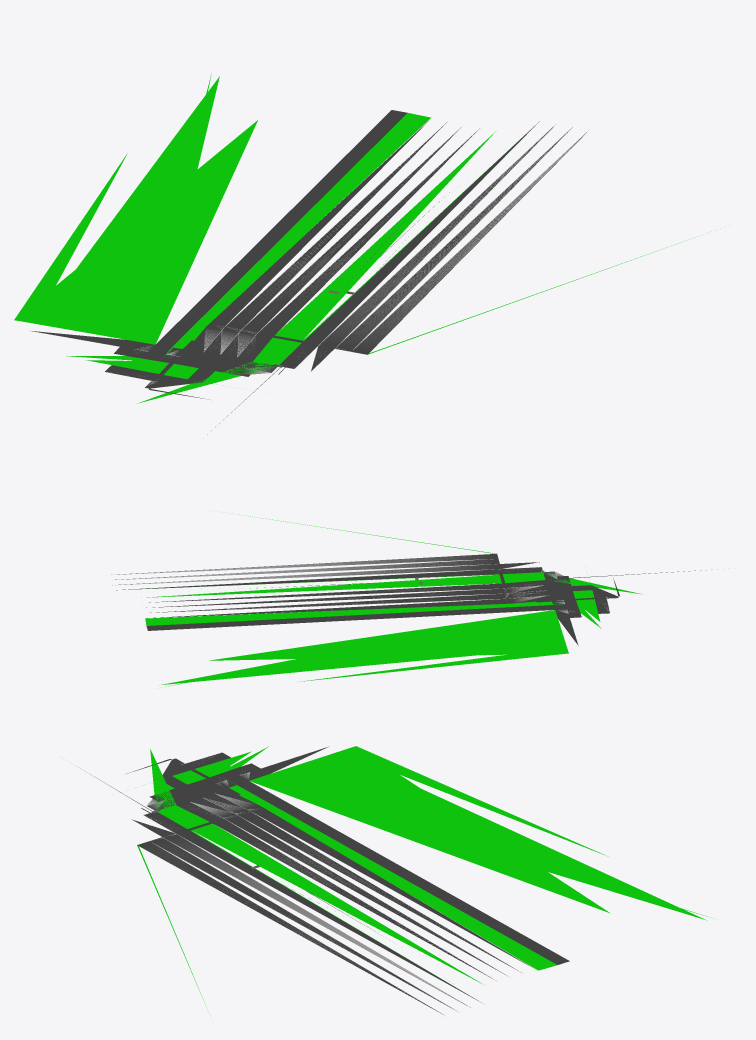
The picture shows the model from 3 angles, top to bottom: view 1: azimuth 30°, elevation 25°; view 2: azimuth 150°, elevation 25°; view 3: azimuth 270°, elevation 25°; orthographic projection. The views are drawn at different scales.
Bounding box in the file's own units: 164 × 0.201 × 165.
